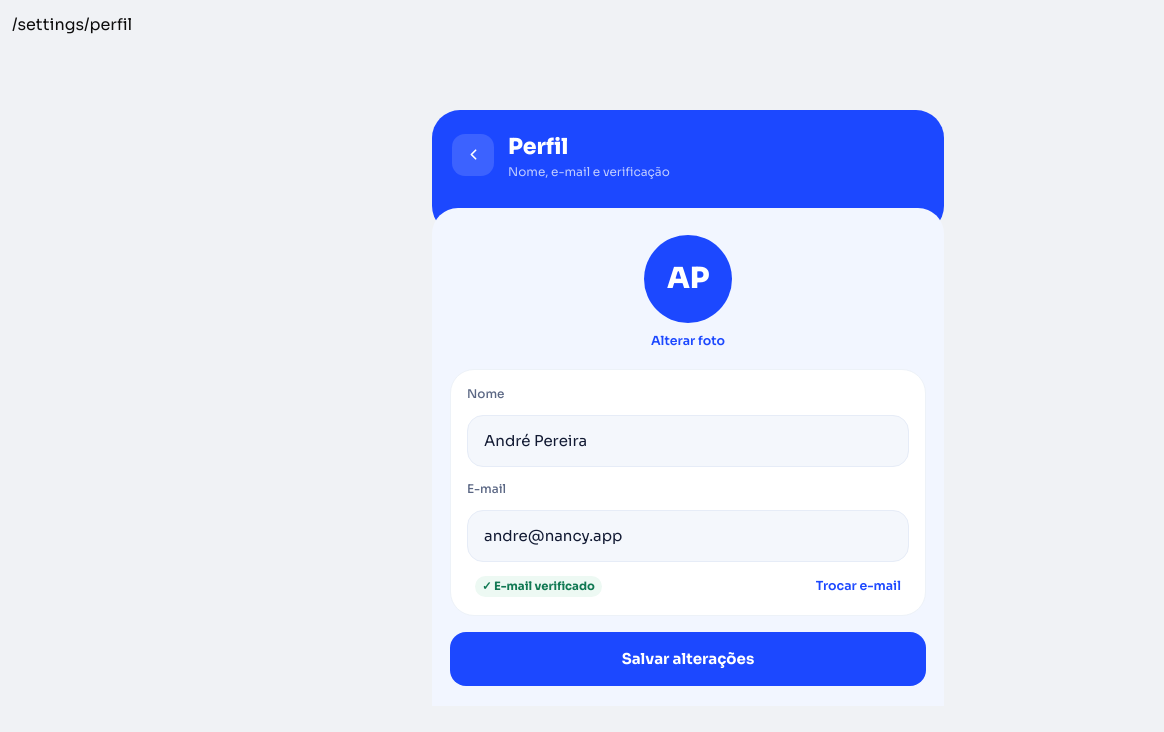
Test: Dados pessoais › salva o nome (trim), manda só o nome, atualiza o usuário e avisa
The width and height of the screenshot is (1164, 732).
Replace the text in the field labelled "Nome" with "  Ana Souza  " at (688, 441), box [467,415,909,467]
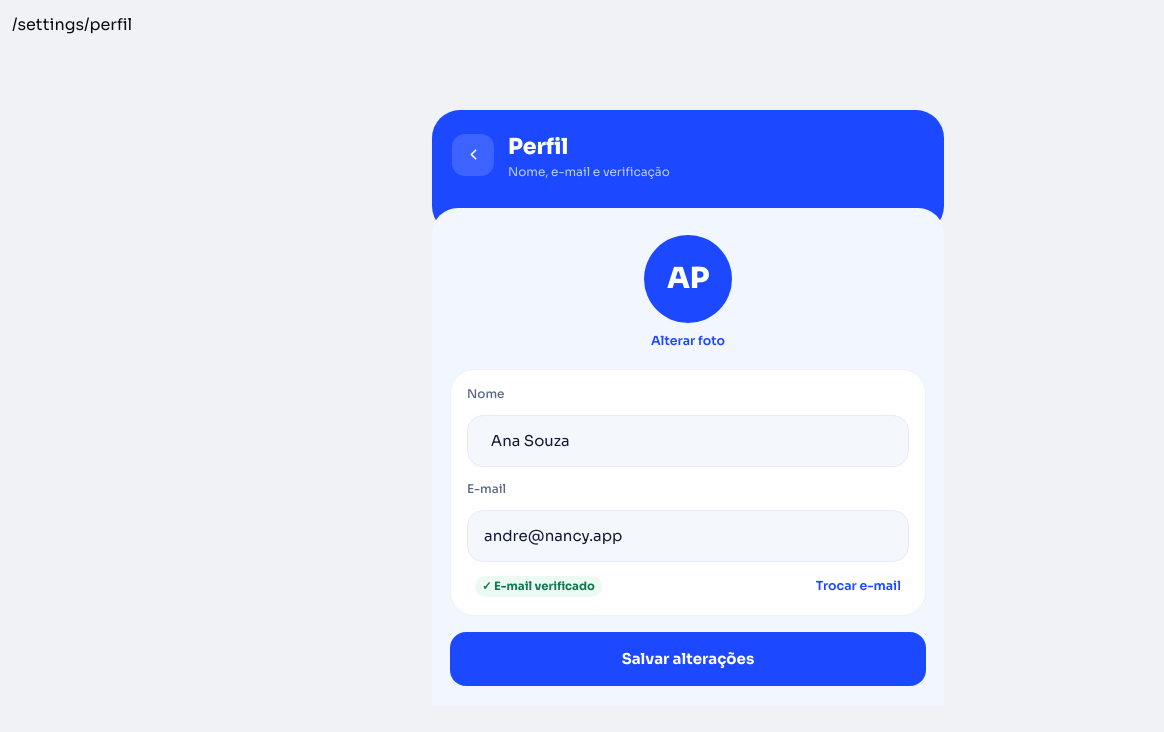
Click the button "Salvar alterações".
click(688, 659)  # box [450,632,926,686]
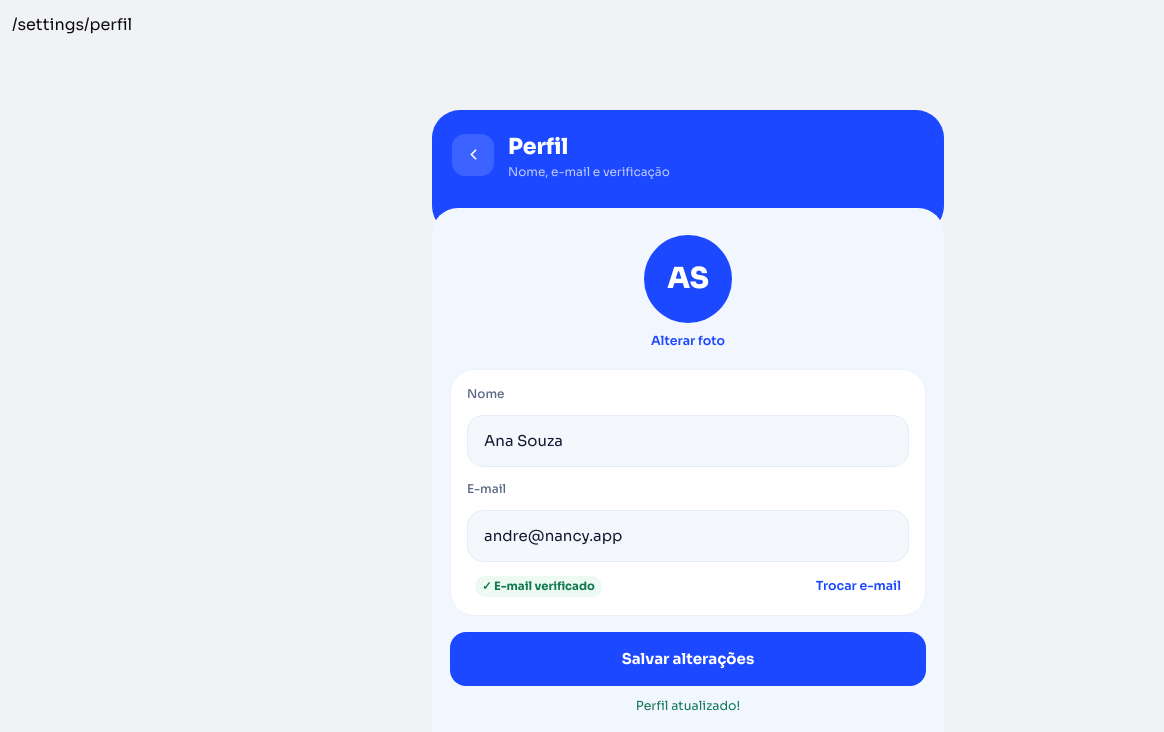
Expected: the text "Perfil atualizado!" is shown, [636,698,740,714]
